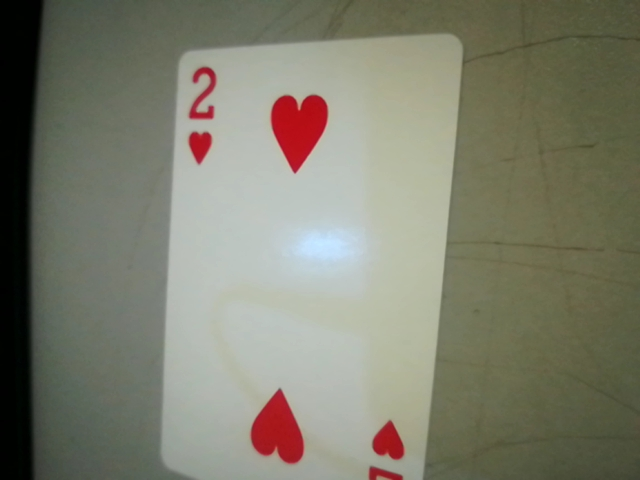hx 2: (171, 56, 231, 175)
